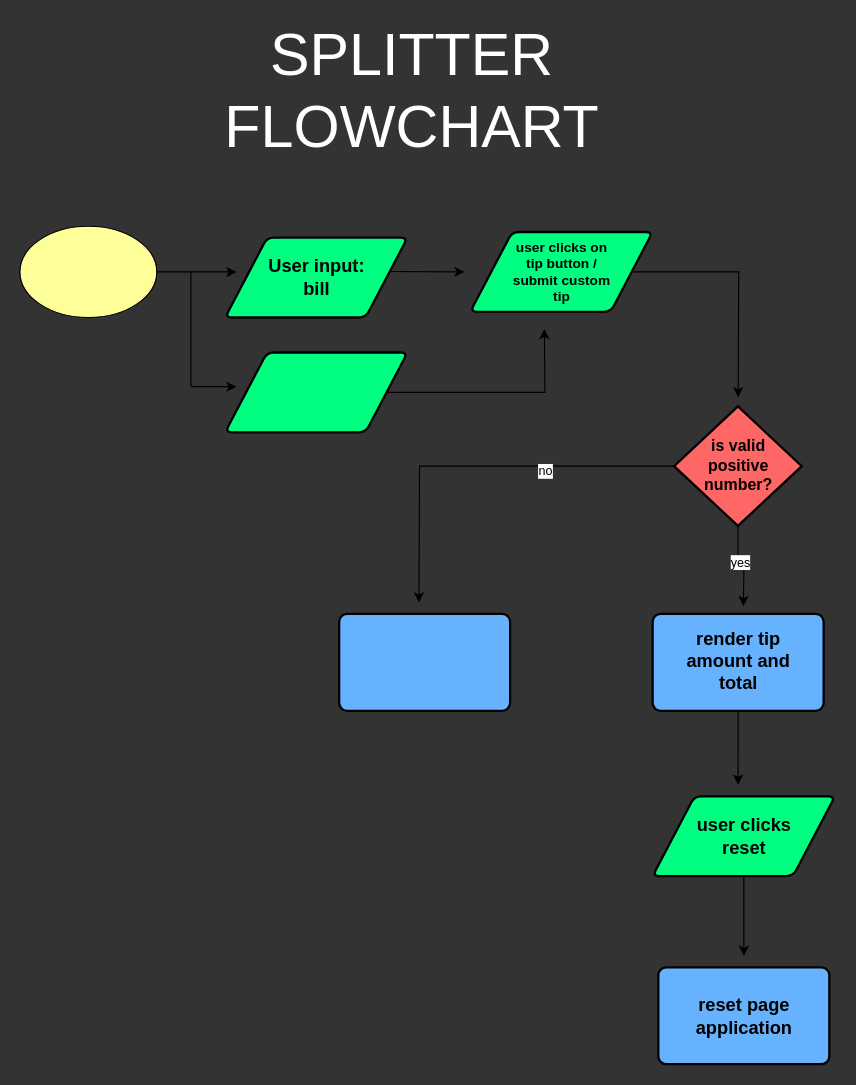
This 856x1085 diagram has some shape labels left out. Here are the shapes that lost their labels. From the top down, the box of each, then its label:
(19, 225, 157, 317): Page Loads
(223, 351, 408, 433): User input: number of people
(337, 612, 511, 711): warning message: can't be zero
